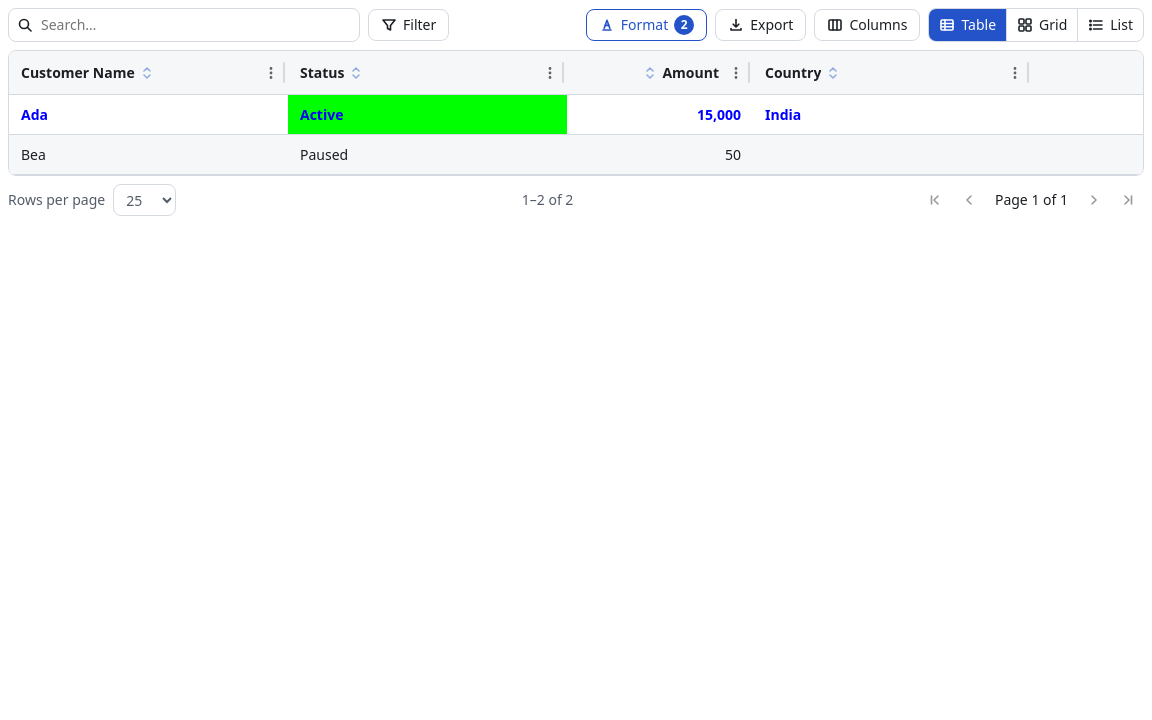
it: conditional formatting › applies two rules at once and still filters
Click the button "Filter" at (409, 25), box [368,9,449,41]
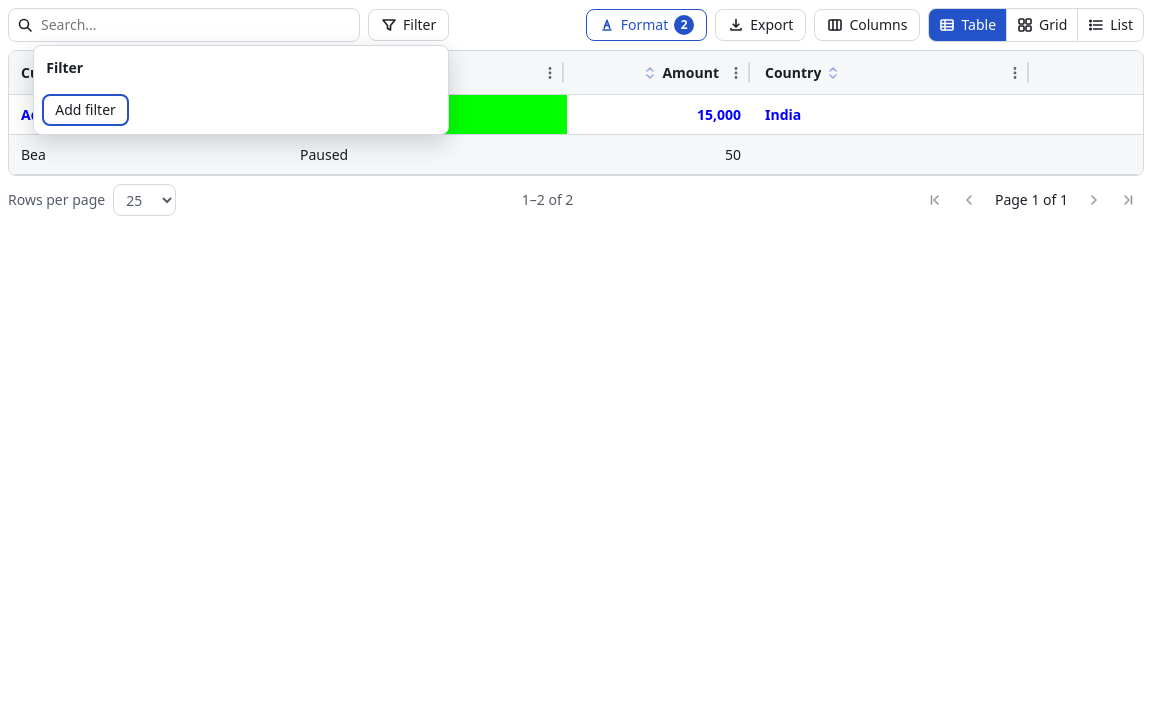
Expected: the button "Format 2" is shown, [586,9,707,41]
Expected: the dialog "Filter" is shown, [33,45,449,135]
